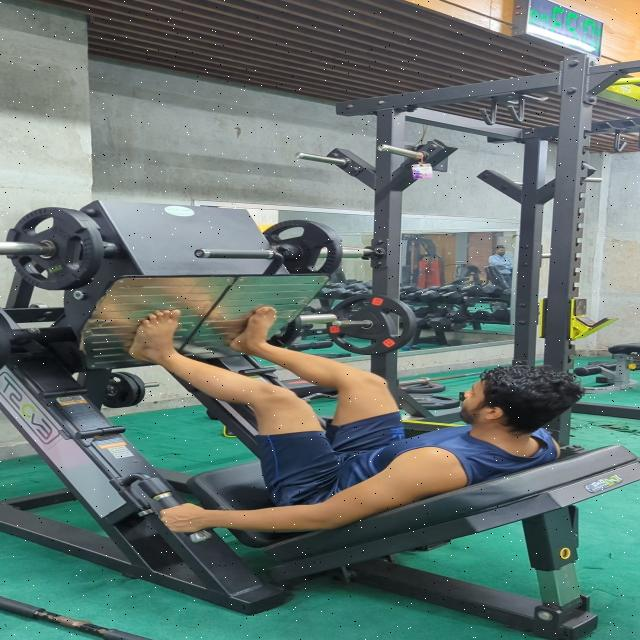Normal_LegPress: (122, 300, 592, 540)
